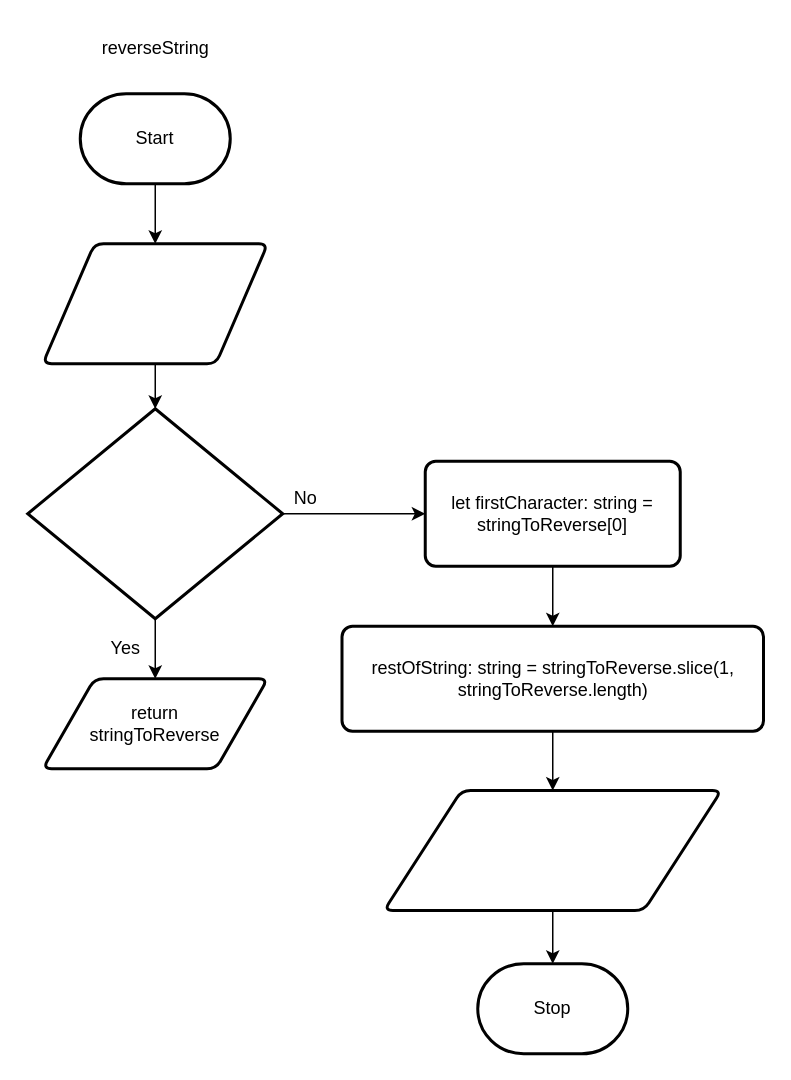
Image size: 791x1080. Some labels were removed from this diagram. The centre of each missing label's shape, as x and y in pixels:
Get stringToReverse: the point at 154,303
if (stringToReverse == ""): the point at 155,513
return reverseString(restOfString) + firstCharacter: the point at 552,849
